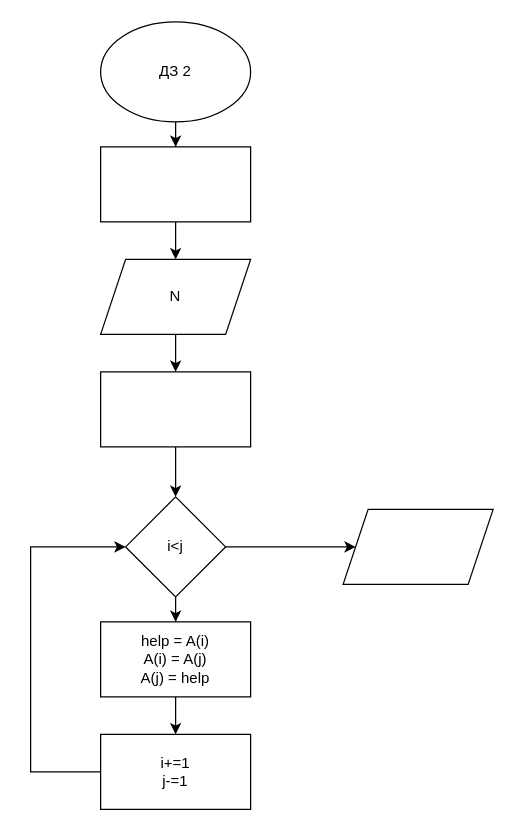
Some shapes in this 515 by 831 pixel diagram are drawn without their labels. The shapes that lost their labels are listed below. From the top down, each one's centre as x and y in pixels, then its label:
(x=175, y=184): N[A,В,С,D) help size=4
(x=175, y=409): A[N] i = 0 j = n-1
(x=417, y=546): вывод N(D,C,B,A)
